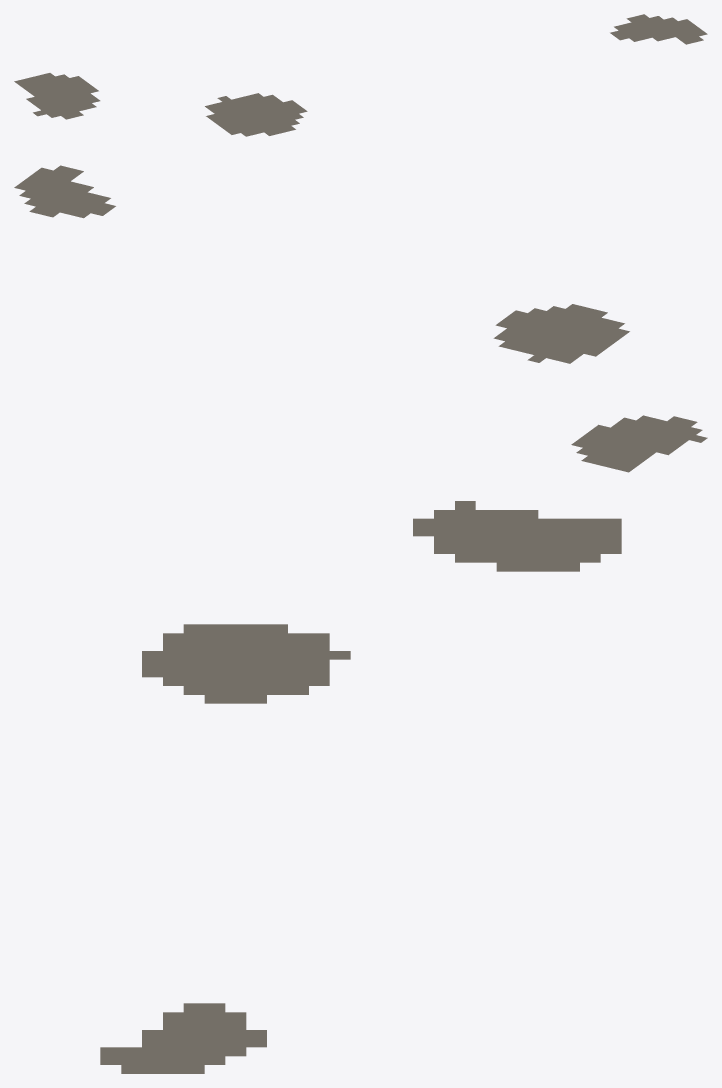
File: Isl-flat3-RocksArea.fbx
3 views of the same model, one above another, from view 1: azimuth 30°, elevation 25°; view 2: azimuth 150°, elevation 25°; view 3: azimuth 270°, elevation 25° (orthographic). The views are drawn at different scales.
Visible parts, largest first — view 1: Isl-flat3-RocksArea; view 2: Isl-flat3-RocksArea; view 3: Isl-flat3-RocksArea.
Boxes of the visible parts, box(x1,y1,x2,y2) form: Isl-flat3-RocksArea: box(14, 14, 707, 136); Isl-flat3-RocksArea: box(14, 165, 707, 472); Isl-flat3-RocksArea: box(100, 501, 621, 1073).
Bounding box in the file's own units: 65 × 0 × 25.
